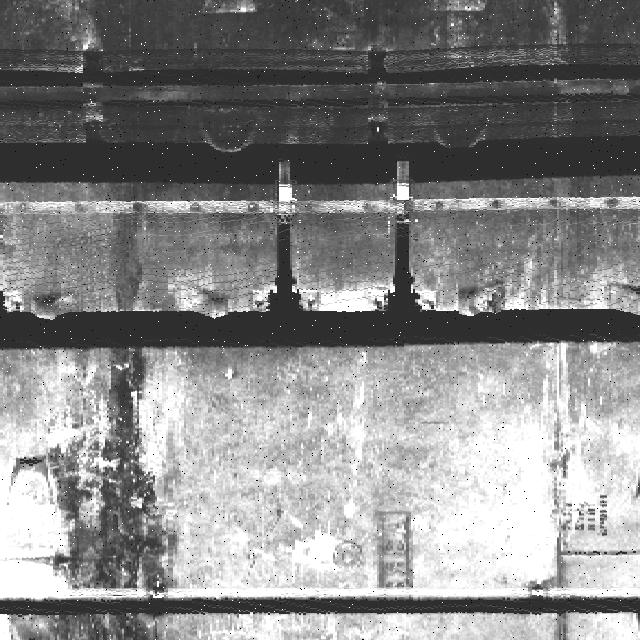leakage: (7, 350, 181, 640), (103, 208, 142, 323)
